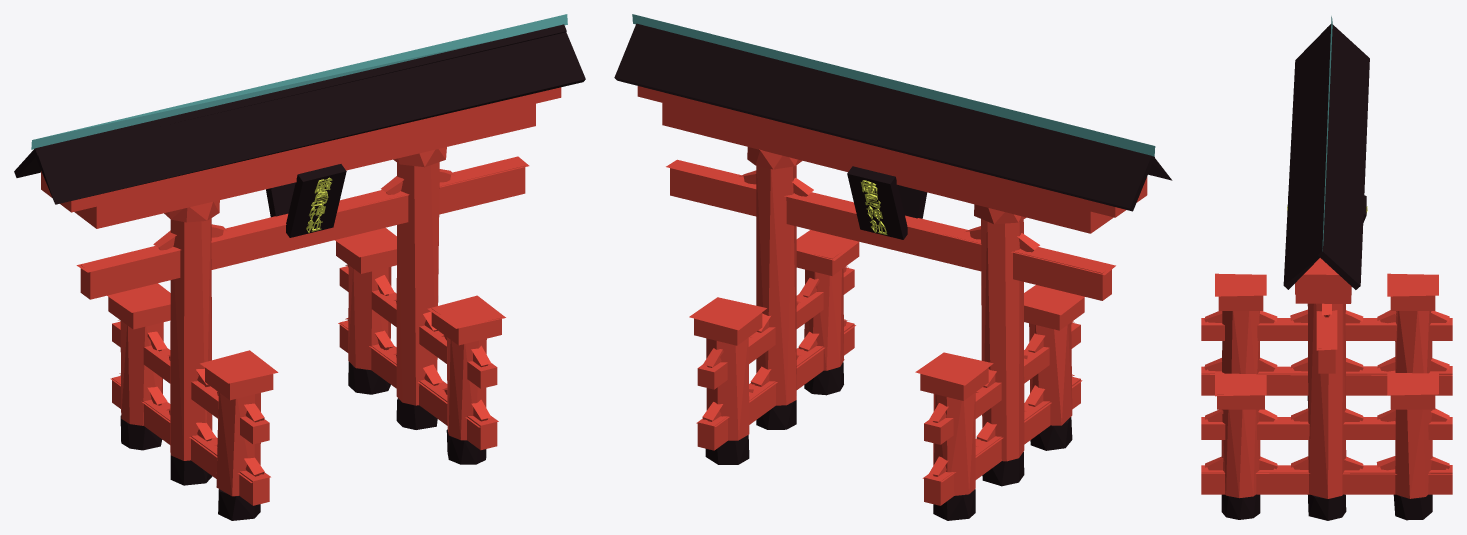
Rendered from itsukushima2.fbx.
3 renders of one model, left to right at view 1: azimuth 30°, elevation 25°; view 2: azimuth 150°, elevation 25°; view 3: azimuth 270°, elevation 25°, orthographic. The views are drawn at different scales.
Visible parts, largest first — view 1: Shrine; view 2: Shrine; view 3: Shrine.
Boxes of the visible parts, left/top/right/bottom form: Shrine: left=14, top=14, right=585, bottom=520; Shrine: left=614, top=14, right=1172, bottom=520; Shrine: left=1201, top=16, right=1452, bottom=520.
Size of the model in its own units: 3170 by 2128 by 1461.
